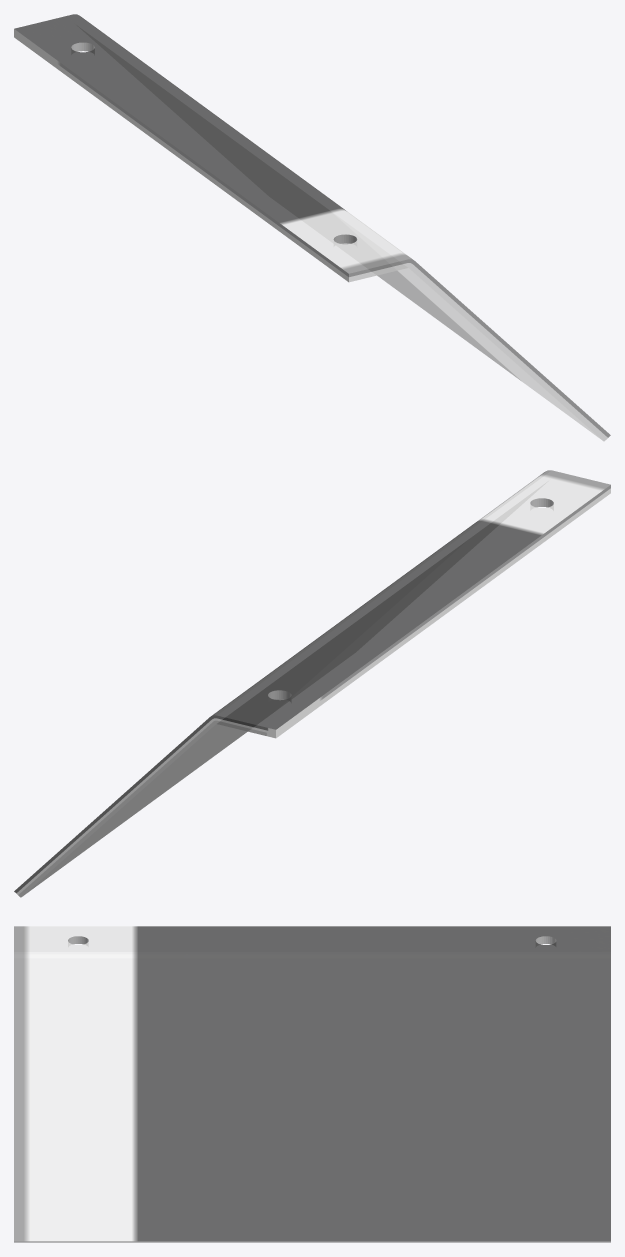
The model's file is WindScreen.glb.
3 renders of one model, top to bottom at view 1: azimuth 30°, elevation 25°; view 2: azimuth 150°, elevation 25°; view 3: azimuth 270°, elevation 25°, orthographic. The views are drawn at different scales.
Visible parts, largest first — view 1: WindScreen; view 2: WindScreen; view 3: WindScreen.
Part boxes in pixels (x1,y1,x2,y2): WindScreen: (14,14,610,441); WindScreen: (14,470,610,897); WindScreen: (14,926,610,1242).
Bounding box in the file's own units: 1.83 × 1.54 × 4.06.
Materials: 1 (1 with a texture image).
